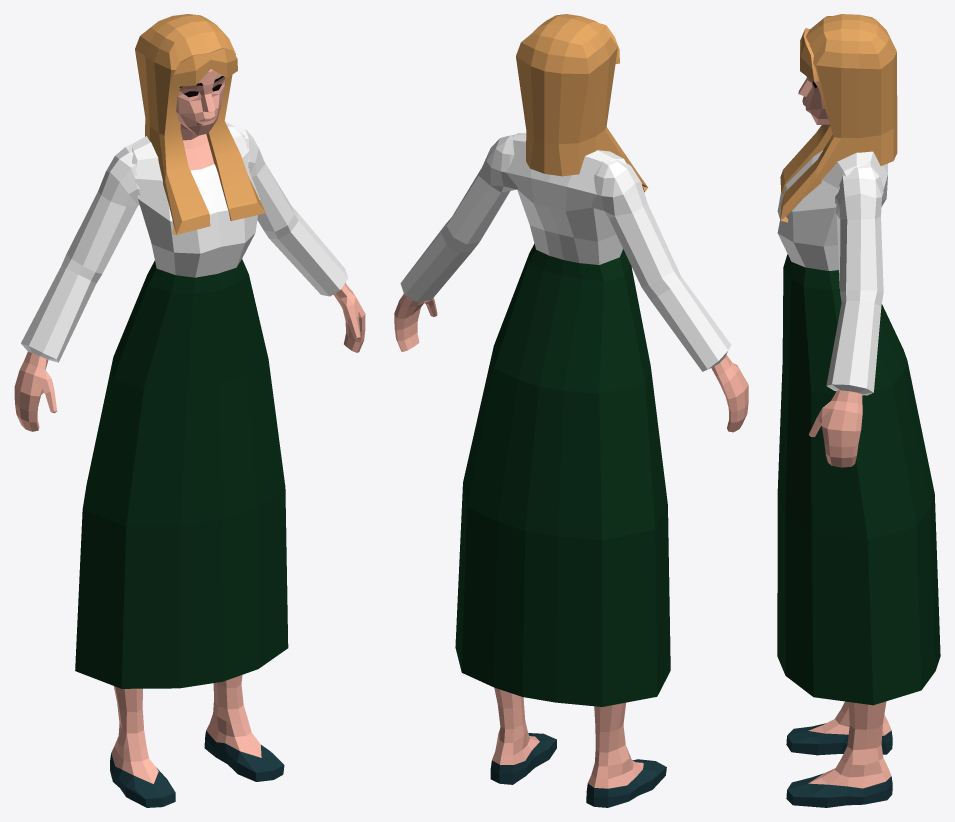
Rendered from Female_06.FBX.
3 renders of one model, left to right at view 1: azimuth 30°, elevation 25°; view 2: azimuth 150°, elevation 25°; view 3: azimuth 270°, elevation 25°, orthographic.
Visible parts, largest first — view 1: Female_06; view 2: Female_06; view 3: Female_06.
Part boxes in pixels (box(x1,y1,x2,y2)): Female_06: box(14, 14, 365, 807); Female_06: box(394, 14, 748, 807); Female_06: box(777, 14, 940, 807).
Size of the model in its own units: 0.8204 by 1.72 by 0.3384.
1 material, 1 textured.
